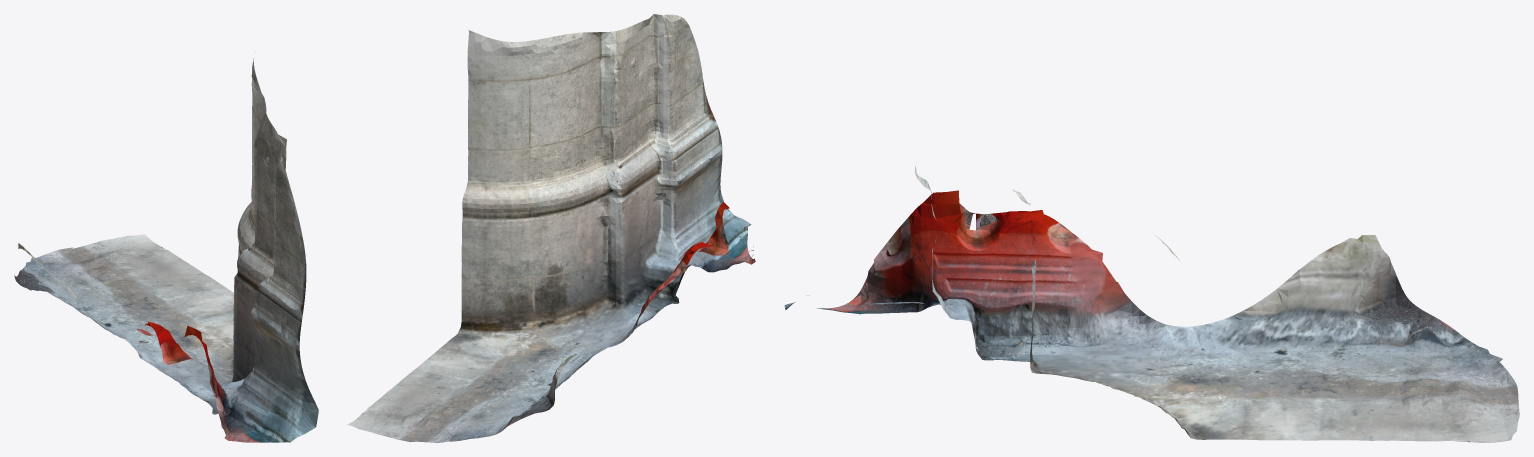
3 views of the same model, side by side, from view 1: azimuth 30°, elevation 25°; view 2: azimuth 150°, elevation 25°; view 3: azimuth 270°, elevation 25° (orthographic). The views are drawn at different scales.
Size of the model in its own units: 1.7 by 2.62 by 4.32.
Materials: 1 (1 with a texture image).
